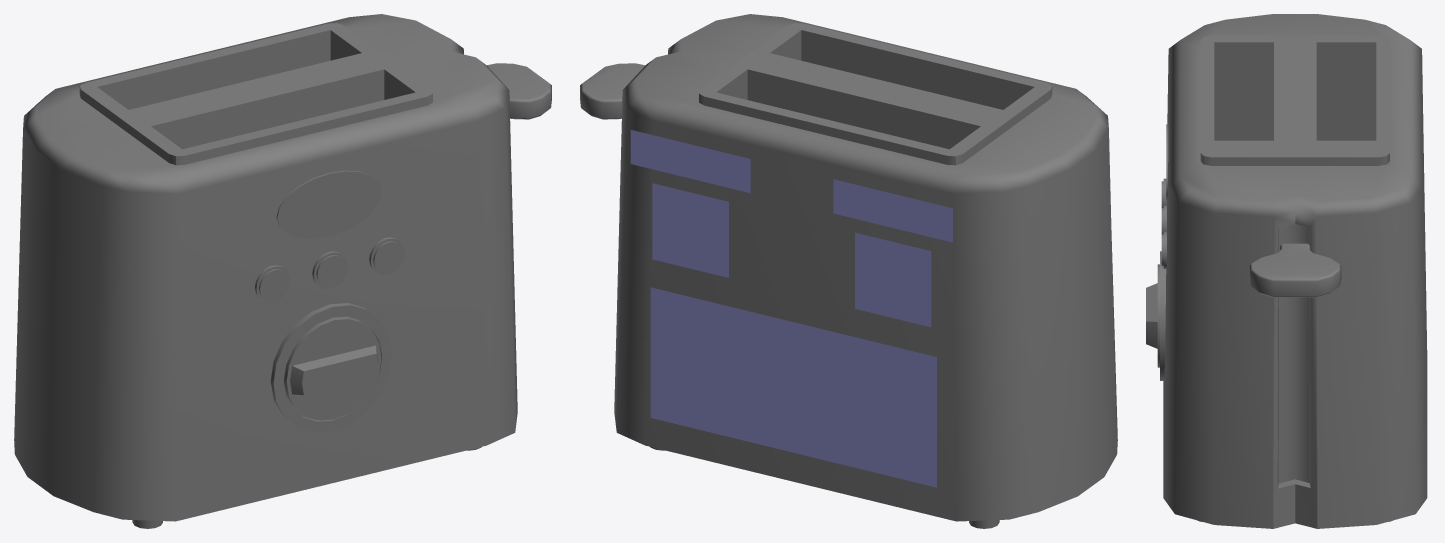
File: Toaster_Boss_Low_Working (1).fbx
3 views of the same model, side by side, from view 1: azimuth 30°, elevation 25°; view 2: azimuth 150°, elevation 25°; view 3: azimuth 270°, elevation 25° (orthographic). The views are drawn at different scales.
Visible parts, largest first — view 1: polySurface4, polySurface1, polySurface3, polySurface7, polySurface6, polySurface2, polySurface9, polySurface11; view 2: polySurface4, Mouth_low, Eye_L_low, Eye_R_low, Eyebrow_L_low, Eyebrow_R_low, polySurface6; view 3: polySurface4, polySurface6, polySurface1, polySurface7.
Part boxes in pixels (bbox=[...]): polySurface4: bbox=[14, 14, 517, 521]; polySurface1: bbox=[284, 316, 381, 420]; polySurface3: bbox=[276, 170, 381, 238]; polySurface7: bbox=[270, 303, 392, 432]; polySurface6: bbox=[487, 63, 551, 119]; polySurface2: bbox=[369, 237, 404, 275]; polySurface9: bbox=[312, 251, 347, 288]; polySurface11: bbox=[255, 265, 290, 302]; polySurface4: bbox=[614, 14, 1117, 521]; Mouth_low: bbox=[650, 287, 936, 487]; Eye_L_low: bbox=[652, 183, 728, 277]; Eye_R_low: bbox=[855, 232, 931, 327]; Eyebrow_L_low: bbox=[630, 130, 750, 193]; Eyebrow_R_low: bbox=[833, 179, 952, 242]; polySurface6: bbox=[580, 63, 644, 119]; polySurface4: bbox=[1163, 14, 1427, 528]; polySurface6: bbox=[1249, 243, 1341, 297]; polySurface1: bbox=[1146, 264, 1159, 367]; polySurface7: bbox=[1160, 251, 1166, 380].
Bounding box in the file's own units: 624 × 431 × 324.
